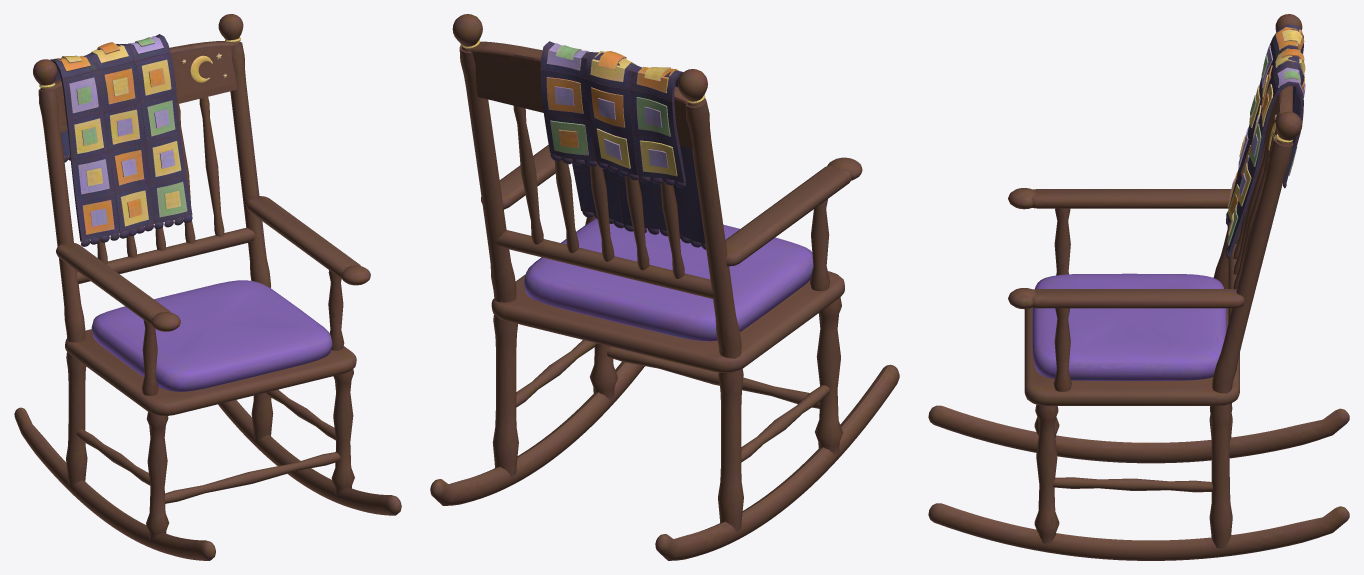
Rendered from rocking-chair.glb.
3 views of the same model, side by side, from view 1: azimuth 30°, elevation 25°; view 2: azimuth 150°, elevation 25°; view 3: azimuth 270°, elevation 25° (orthographic). The views are drawn at different scales.
Visible parts, largest first — view 1: rocking-chair_body; view 2: rocking-chair_body; view 3: rocking-chair_body.
Boxes of the visible parts, box(x1,y1,x2,y2) form: rocking-chair_body: box(14, 14, 401, 560); rocking-chair_body: box(430, 14, 899, 560); rocking-chair_body: box(928, 14, 1349, 560).
Size of the model in its own units: 0.594 by 1.09 by 0.9297.
Materials: 1 (1 with a texture image).
